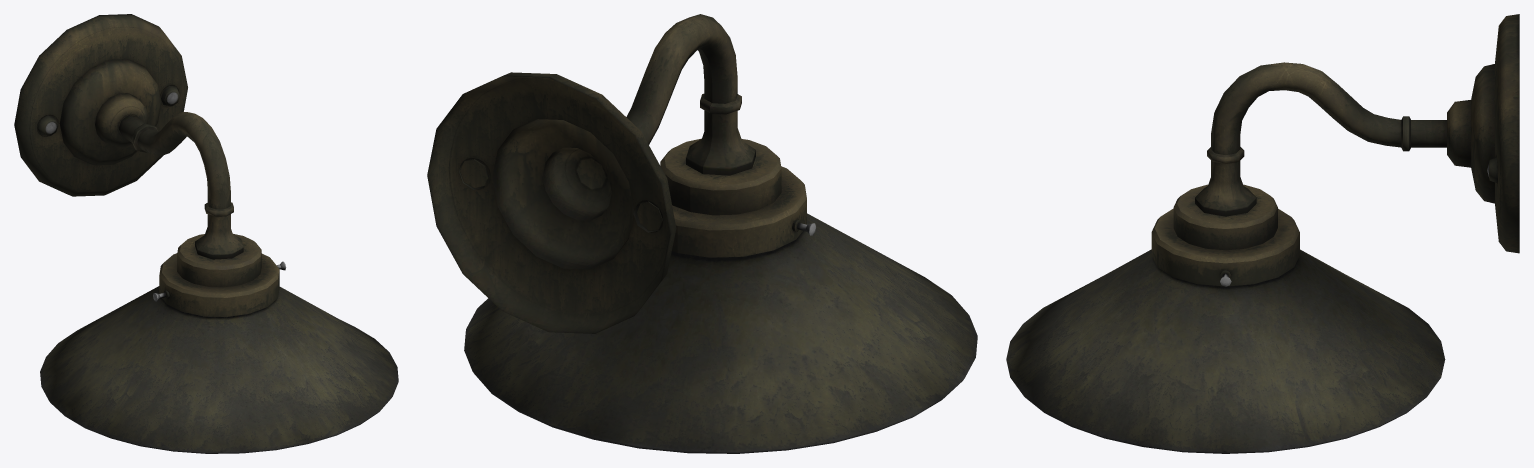
The model's file is wall_light_1.fbx.
The picture shows the model from 3 angles, left to right: view 1: azimuth 30°, elevation 25°; view 2: azimuth 150°, elevation 25°; view 3: azimuth 270°, elevation 25°; orthographic projection. The views are drawn at different scales.
Visible parts, largest first — view 1: wall_light_1; view 2: wall_light_1; view 3: wall_light_1.
Part boxes in pixels (x1,y1,x2,y2): wall_light_1: (14,14,398,453); wall_light_1: (427,14,977,453); wall_light_1: (1006,14,1519,453).
Size of the model in its own units: 14.05 by 12.84 by 16.43.
Materials: 2 (2 with a texture image).
